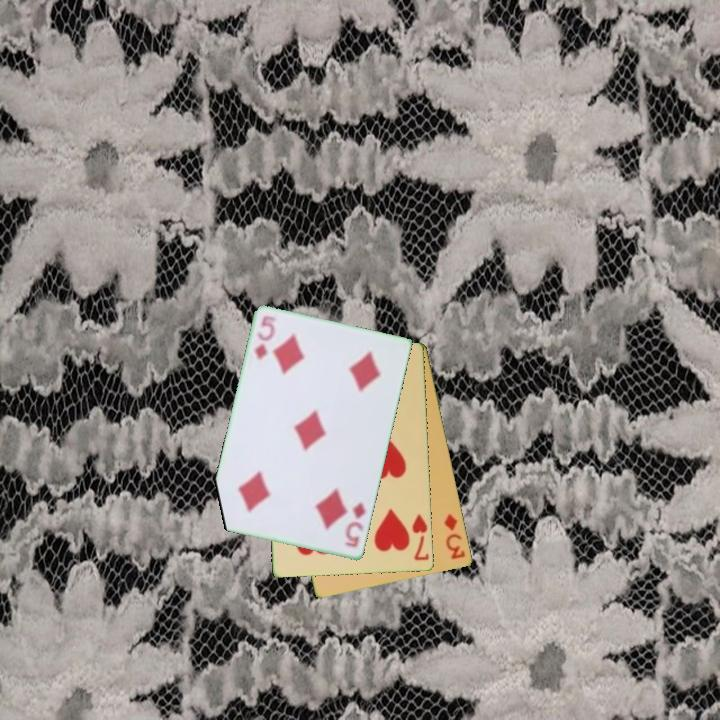3d: (441, 511, 468, 562)
5d: (341, 499, 368, 551), (252, 312, 279, 363)
7h: (409, 511, 432, 564)
